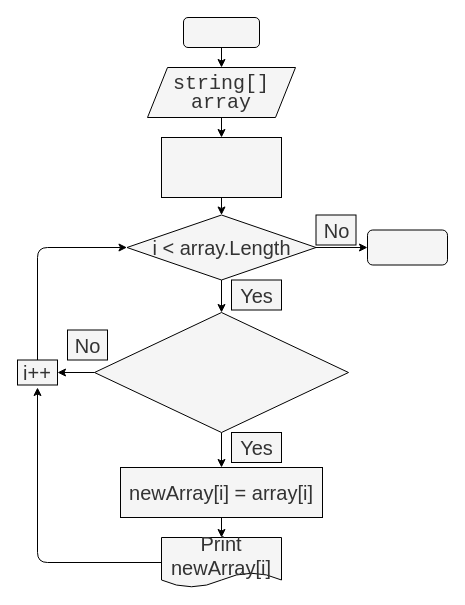
Some shapes in this 465 by 605 pixel diagram are drawn without their labels. The shapes that lost their labels are listed below. From the top down, each one's centre as x and y in pixels, then its label:
point 221,32: Start
point 221,167: string[] newArray i = 0
point 407,247: End
point 221,372: array[i].Length <= 3 array[i] != null
